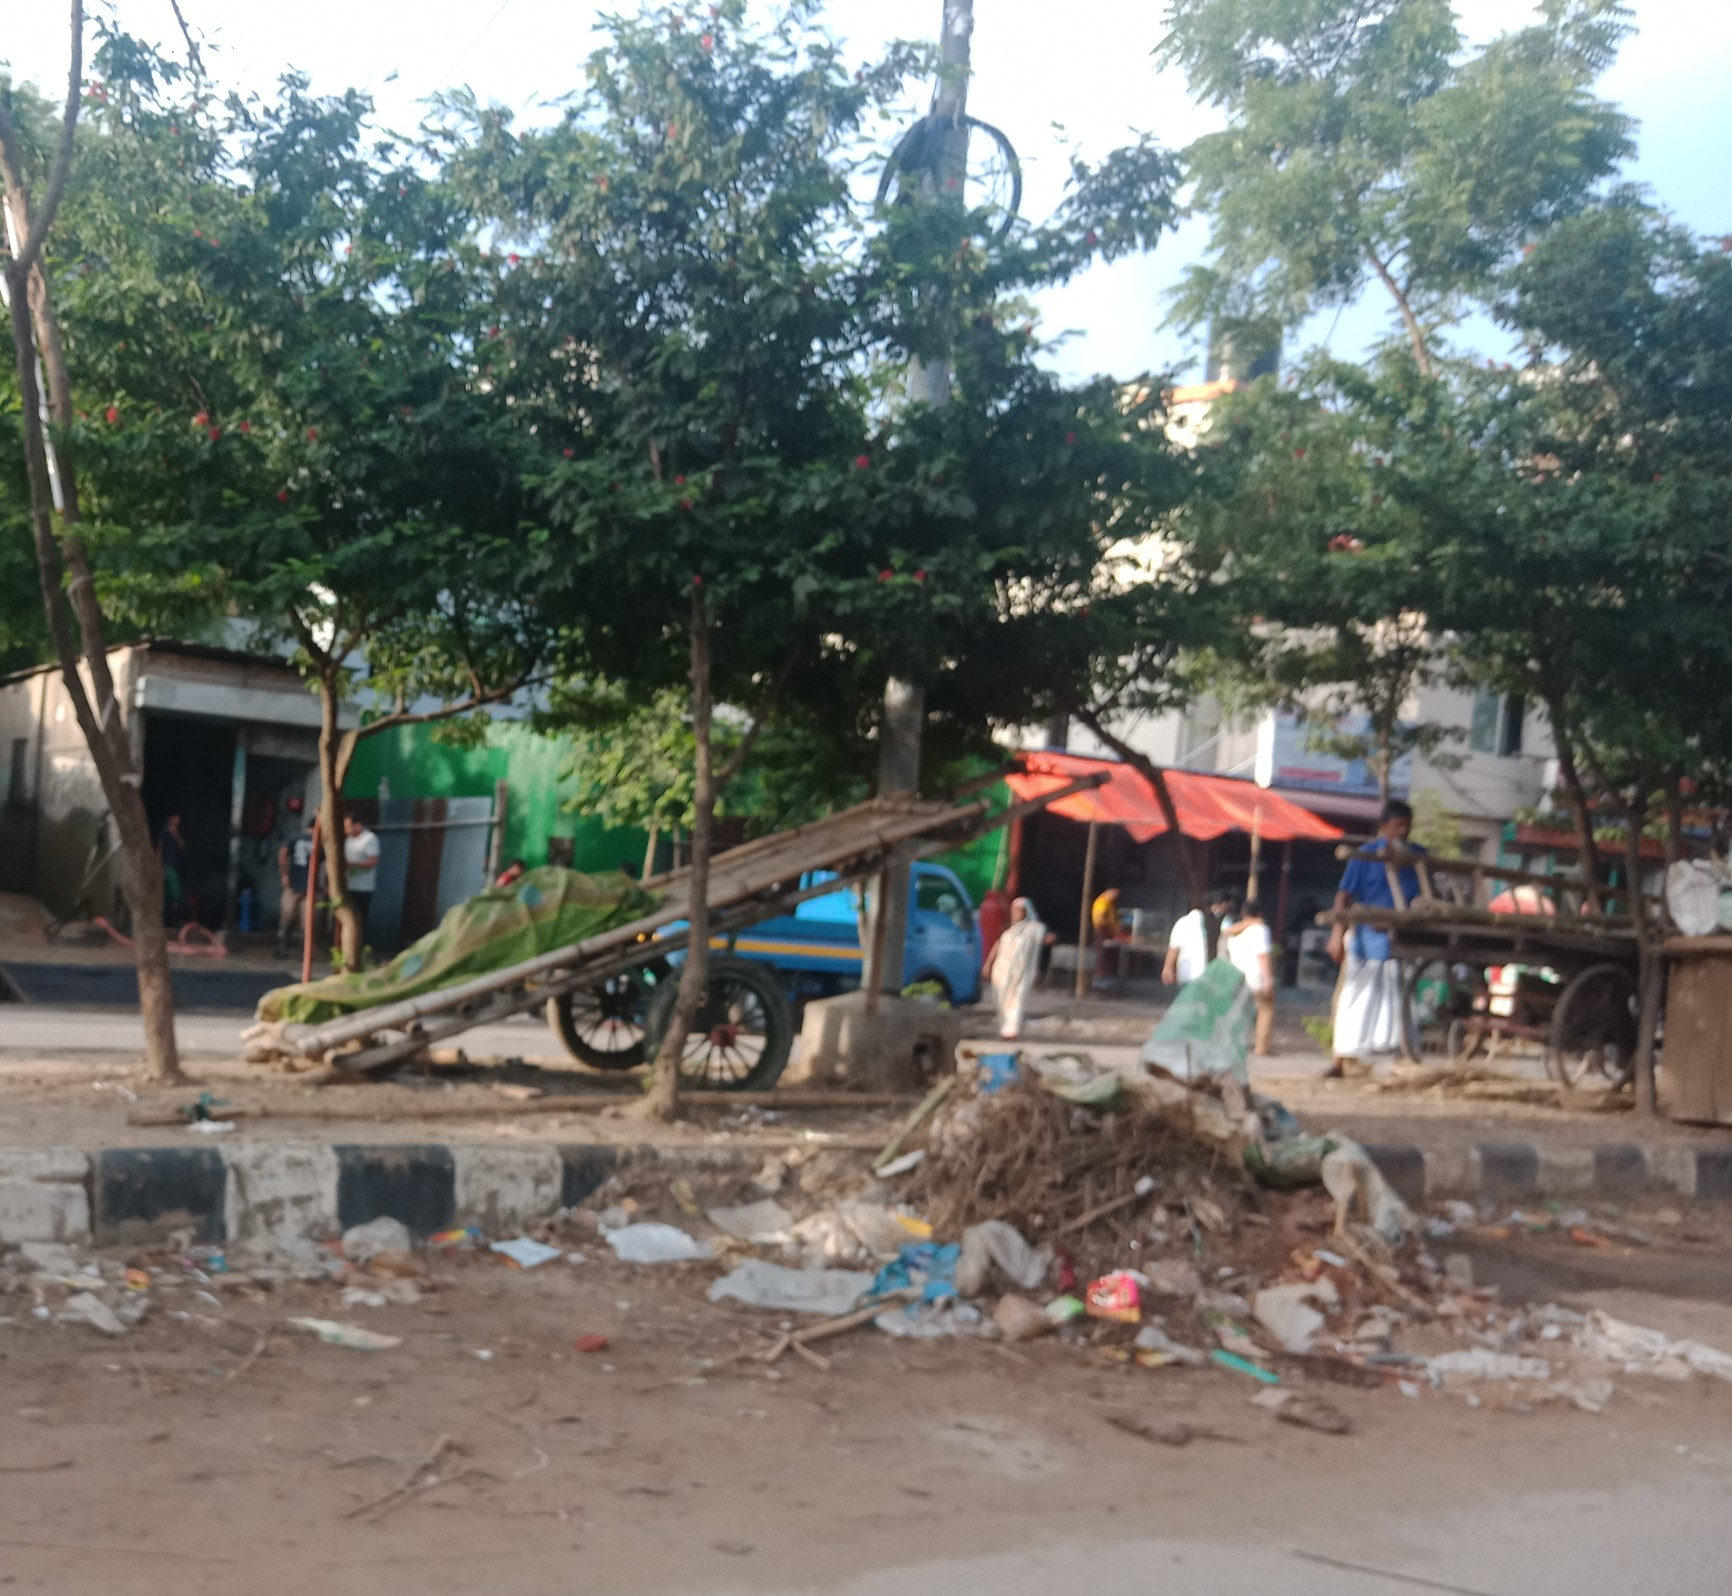van: (1334, 879, 1672, 1103)
wheelbarrow: (249, 748, 1116, 1106)
